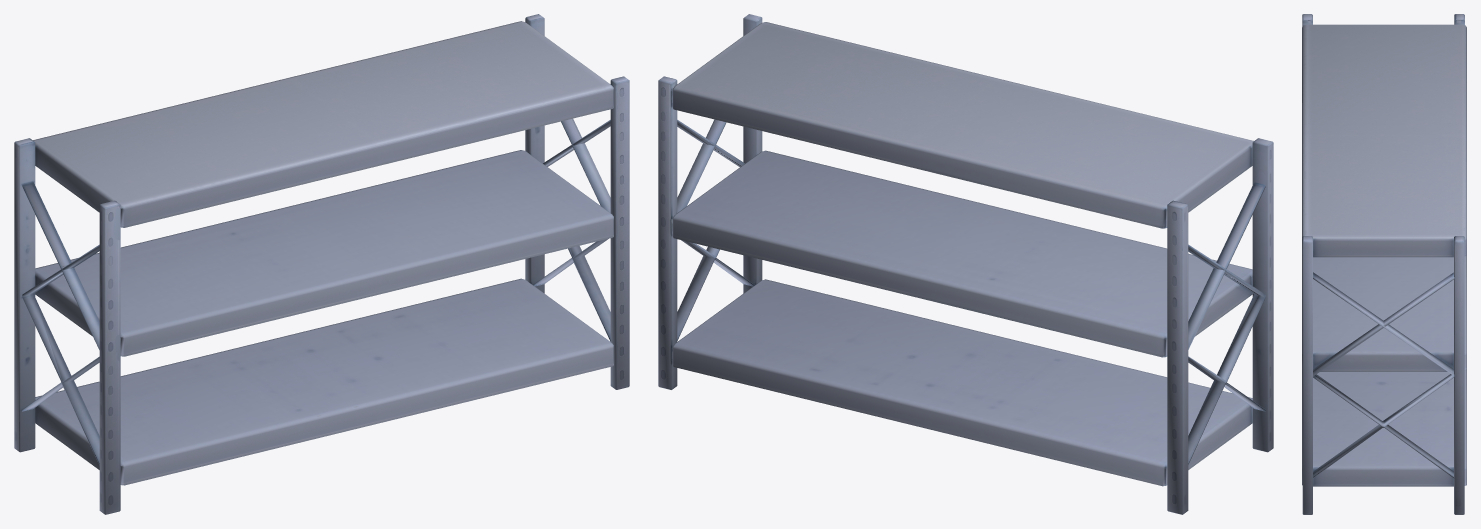
File: tripo_convert_ff566ba8-3924-4307-9260-a5460d85392b.fbx
3 renders of one model, left to right at view 1: azimuth 30°, elevation 25°; view 2: azimuth 150°, elevation 25°; view 3: azimuth 270°, elevation 25°, orthographic. The views are drawn at different scales.
Parts seen in each view (by area): view 1: mesh_rep_0_ori_repair_quad_012, mesh_rep_0_ori_repair_quad_014, mesh_rep_0_ori_repair_quad_013, mesh_rep_0_ori_repair_quad_001, mesh_rep_0_ori_repair_quad_007, mesh_rep_0_ori_repair_quad_003, mesh_rep_0_ori_repair_quad_011, mesh_rep_0_ori_repair_quad_009, mesh_rep_0_ori_repair_quad_006; view 2: mesh_rep_0_ori_repair_quad_012, mesh_rep_0_ori_repair_quad_014, mesh_rep_0_ori_repair_quad_013, mesh_rep_0_ori_repair_quad_007, mesh_rep_0_ori_repair_quad_001, mesh_rep_0_ori_repair_quad_006, mesh_rep_0_ori_repair_quad_011, mesh_rep_0_ori_repair_quad_009, mesh_rep_0_ori_repair_quad_003; view 3: mesh_rep_0_ori_repair_quad_012, mesh_rep_0_ori_repair_quad_014, mesh_rep_0_ori_repair_quad_013, mesh_rep_0_ori_repair_quad_009, mesh_rep_0_ori_repair_quad_006, mesh_rep_0_ori_repair_quad_003.
Boxes of the visible parts, x1,y1,x2,y2 form: mesh_rep_0_ori_repair_quad_012: (33, 21, 613, 227); mesh_rep_0_ori_repair_quad_014: (35, 278, 613, 485); mesh_rep_0_ori_repair_quad_013: (35, 150, 613, 356); mesh_rep_0_ori_repair_quad_001: (99, 200, 120, 514); mesh_rep_0_ori_repair_quad_007: (14, 138, 35, 452); mesh_rep_0_ori_repair_quad_003: (610, 76, 629, 389); mesh_rep_0_ori_repair_quad_011: (22, 182, 99, 465); mesh_rep_0_ori_repair_quad_009: (533, 118, 610, 341); mesh_rep_0_ori_repair_quad_006: (525, 14, 544, 293); mesh_rep_0_ori_repair_quad_012: (673, 22, 1253, 228); mesh_rep_0_ori_repair_quad_014: (673, 279, 1252, 486); mesh_rep_0_ori_repair_quad_013: (673, 150, 1252, 357); mesh_rep_0_ori_repair_quad_007: (1167, 200, 1188, 514); mesh_rep_0_ori_repair_quad_001: (1252, 138, 1273, 452); mesh_rep_0_ori_repair_quad_006: (658, 76, 677, 389); mesh_rep_0_ori_repair_quad_011: (1188, 182, 1265, 464); mesh_rep_0_ori_repair_quad_009: (677, 119, 754, 340); mesh_rep_0_ori_repair_quad_003: (743, 14, 762, 293); mesh_rep_0_ori_repair_quad_012: (1302, 24, 1466, 257); mesh_rep_0_ori_repair_quad_014: (1302, 370, 1466, 486); mesh_rep_0_ori_repair_quad_013: (1302, 256, 1466, 371); mesh_rep_0_ori_repair_quad_009: (1313, 272, 1454, 478); mesh_rep_0_ori_repair_quad_006: (1454, 236, 1464, 514); mesh_rep_0_ori_repair_quad_003: (1302, 236, 1312, 514).
Bounding box in the file's own units: 1 × 0.559 × 0.3049.
